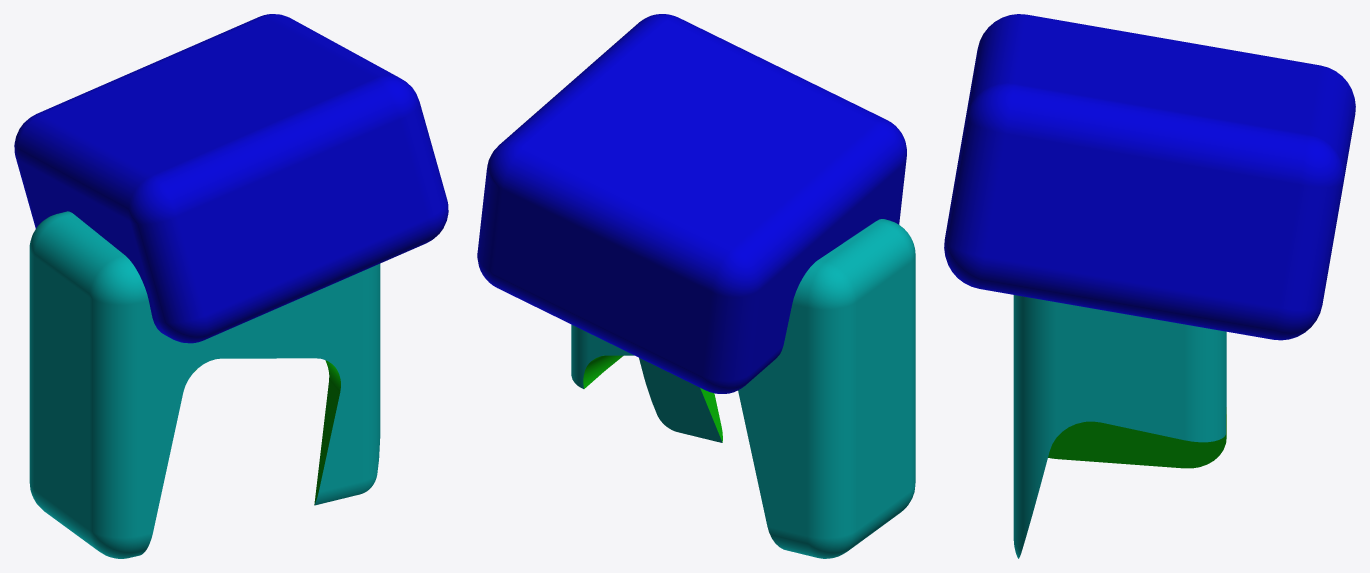
File: random9.fbx
3 views of the same model, side by side, from view 1: azimuth 30°, elevation 25°; view 2: azimuth 150°, elevation 25°; view 3: azimuth 270°, elevation 25° (orthographic). The views are drawn at different scales.
Visible parts, largest first — view 1: obj1; view 2: obj1; view 3: obj1.
Boxes of the visible parts, x1,y1,x2,y2 form: obj1: (14, 14, 448, 558); obj1: (477, 14, 915, 558); obj1: (944, 14, 1355, 558).
Bounding box in the file's own units: 10.7 × 13.05 × 9.67.
